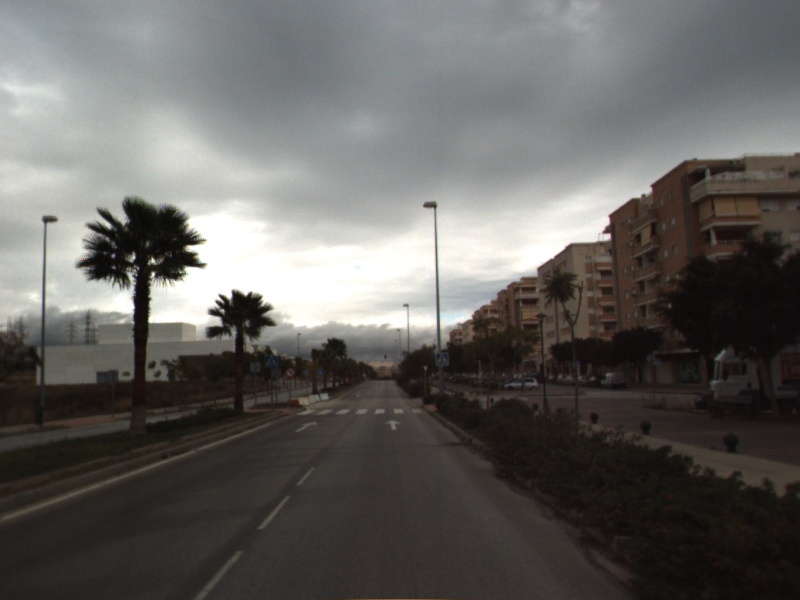STRAIGHT: (293, 419, 320, 434), (383, 417, 403, 432)
